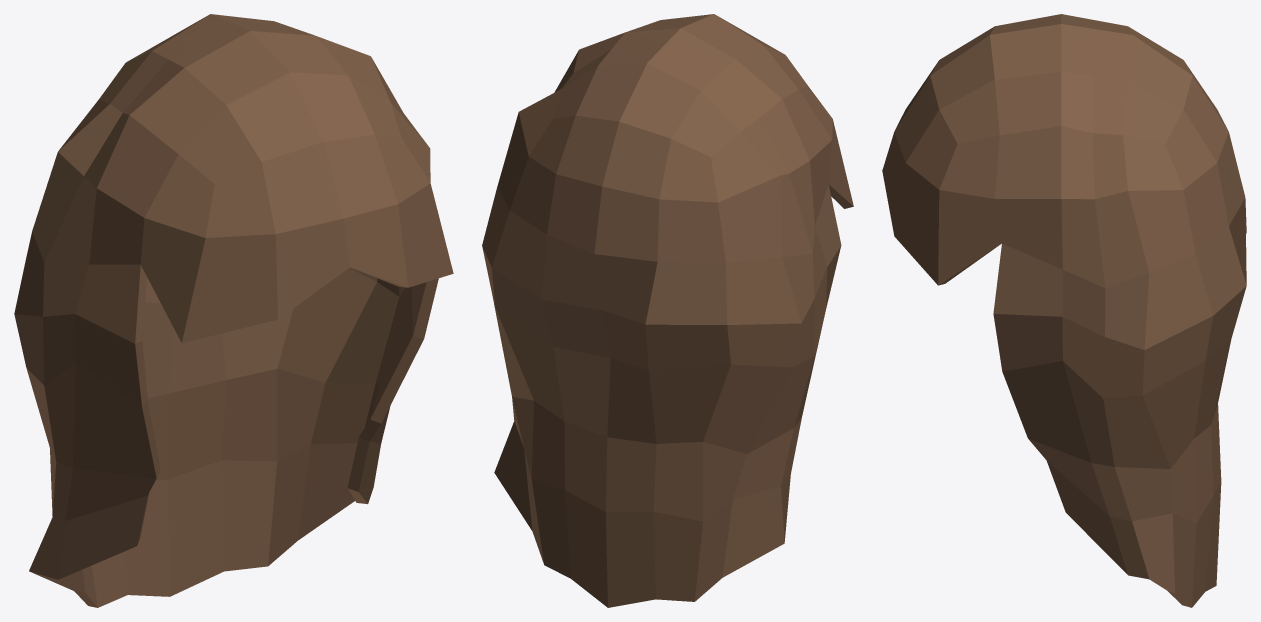
The model's file is HairRecepcionist.fbx.
3 views of the same model, side by side, from view 1: azimuth 30°, elevation 25°; view 2: azimuth 150°, elevation 25°; view 3: azimuth 270°, elevation 25° (orthographic). The views are drawn at different scales.
Visible parts, largest first — view 1: RecepcionistHair; view 2: RecepcionistHair; view 3: RecepcionistHair.
Part boxes in pixels (box(x1,y1,x2,y2)): RecepcionistHair: box(14, 14, 453, 607); RecepcionistHair: box(482, 14, 853, 607); RecepcionistHair: box(882, 14, 1246, 607).
Bounding box in the file's own units: 28.48 × 44.86 × 26.37.
